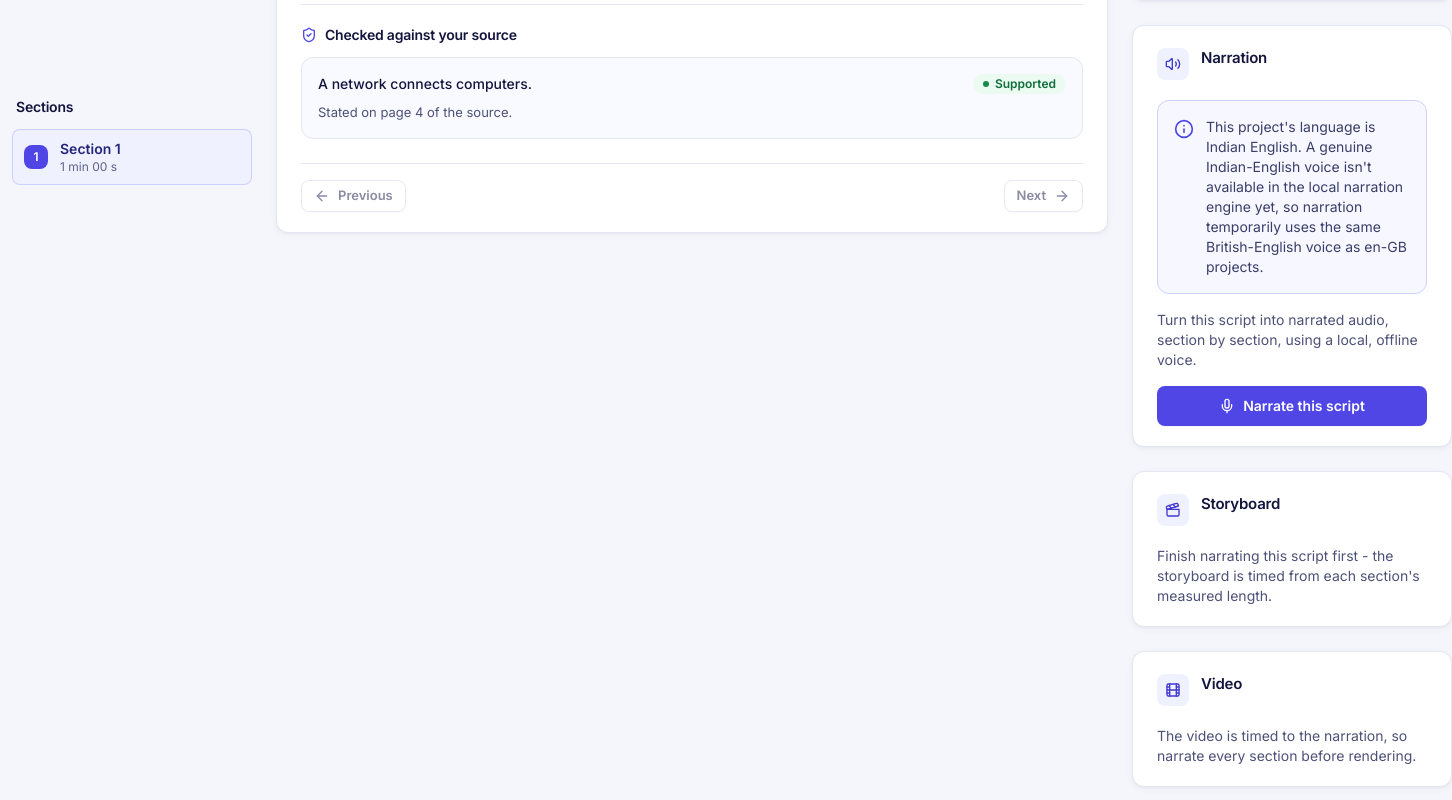
Test case: Narration (Phase 8) › offers narration for an approved script, and shows real progress once requested
(page scrolled)
Click the button "Narrate this script".
click(1292, 406)  # box [1157, 386, 1427, 426]
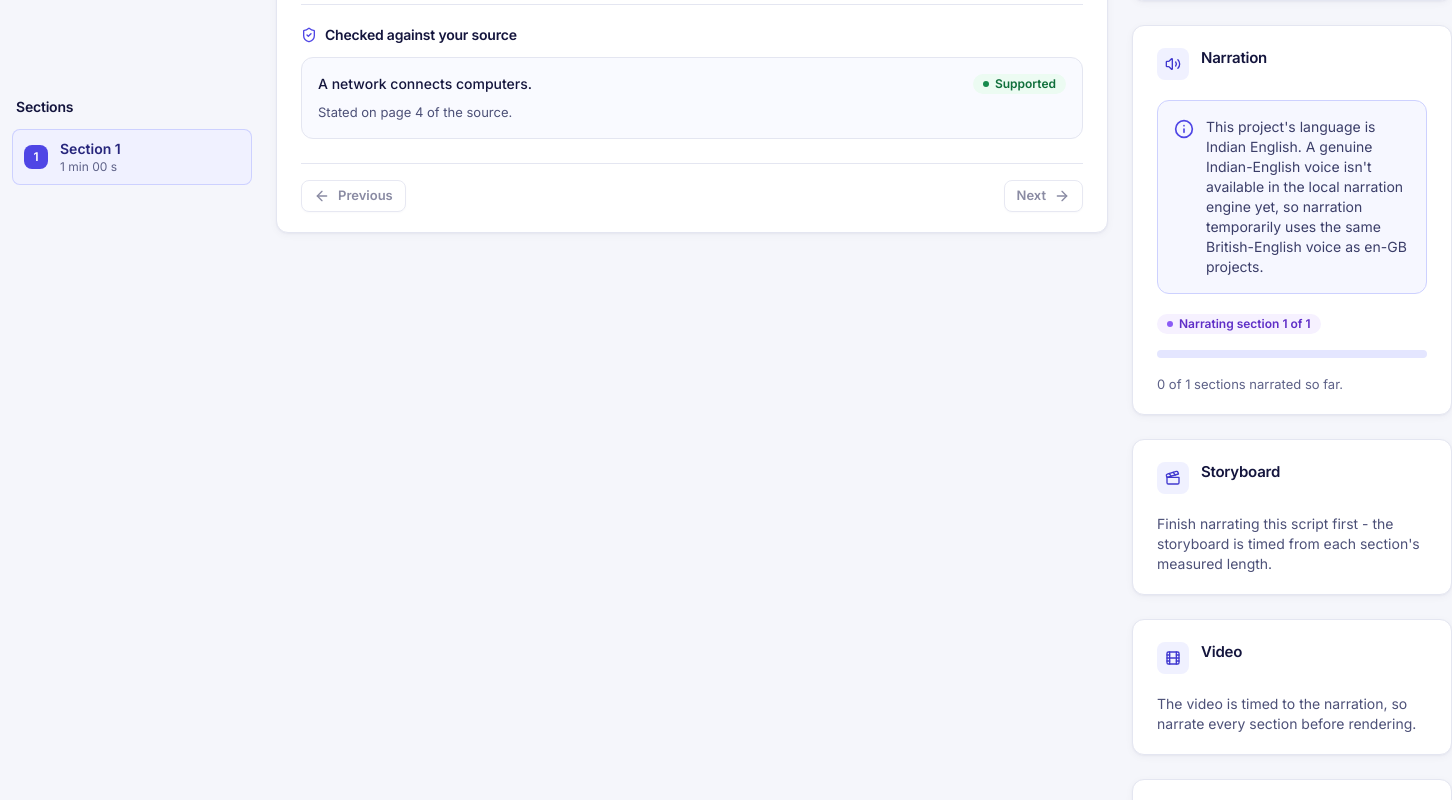
Result: the text "Narrating section 1 of 1" is shown at [1157, 314, 1321, 334]
Result: the progress indicator named "Narration progress" is shown at [1157, 350, 1427, 358]
